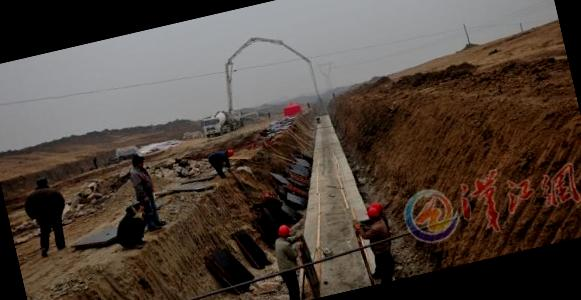no_helmet: (127, 150, 148, 174), (127, 200, 150, 218)
